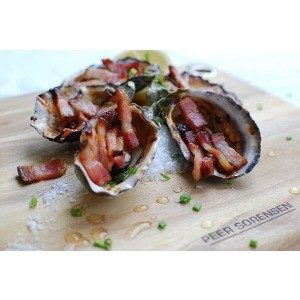oyster_brain food: (44, 79, 157, 207)
